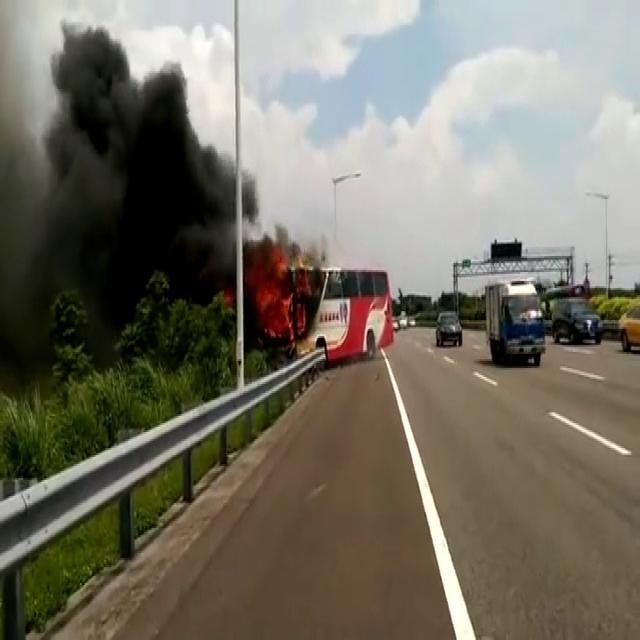Fire: (256, 263, 298, 349)
Smoke: (0, 3, 260, 384)
